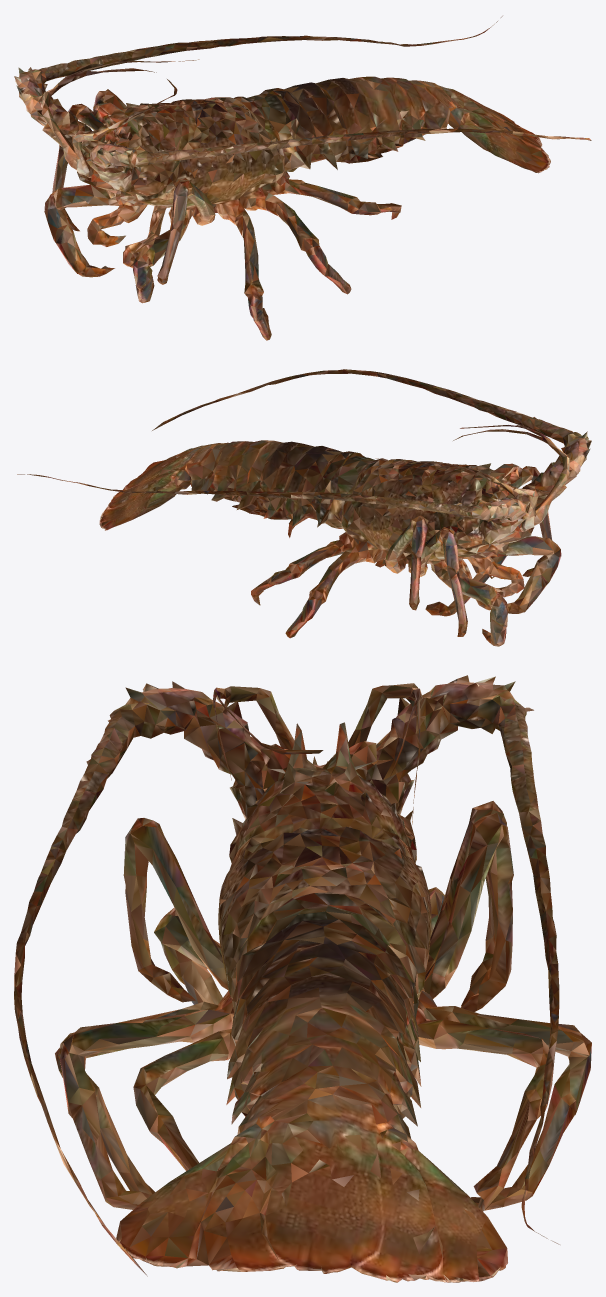
The model's file is lobster.glb.
The picture shows the model from 3 angles, top to bottom: view 1: azimuth 30°, elevation 25°; view 2: azimuth 150°, elevation 25°; view 3: azimuth 270°, elevation 25°; orthographic projection. The views are drawn at different scales.
Parts seen in each view (by area): view 1: body; view 2: body; view 3: body.
Boxes of the visible parts, <box> form: body: <box>14,16,591,340</box>; body: <box>17,369,591,646</box>; body: <box>14,675,591,1282</box>.
Size of the model in its own units: 0.9973 by 0.4475 by 0.5518.
Materials: 2 (2 with a texture image).
